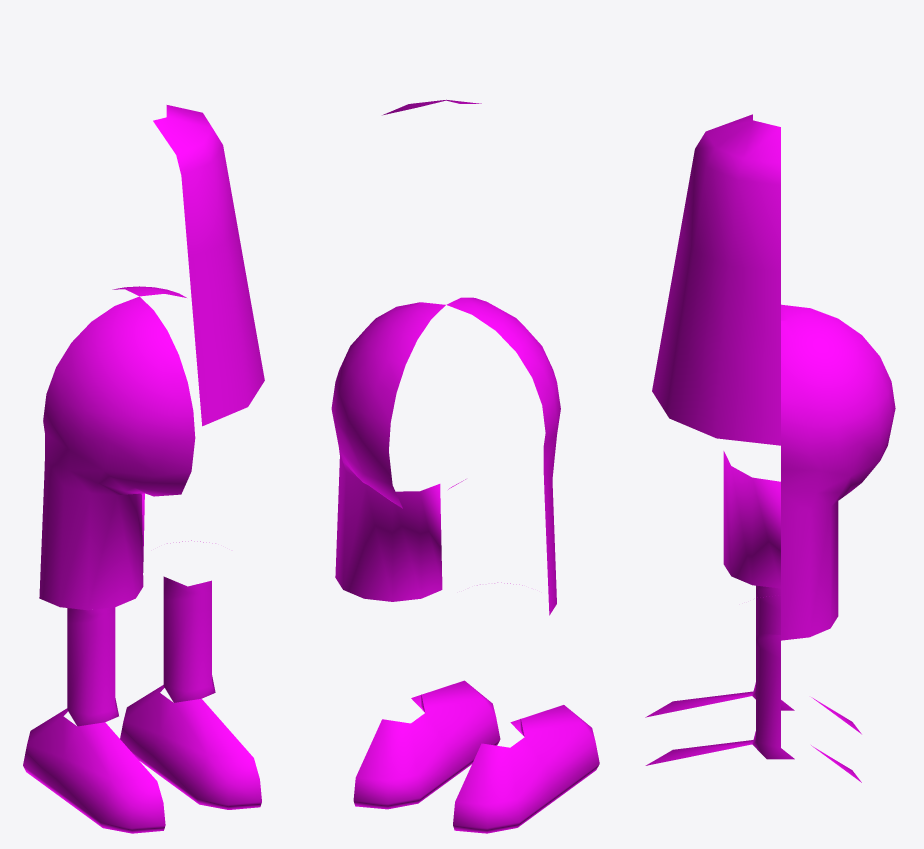
Rendered from ava_bodyC1__ava_bodyC1.glb.
3 views of the same model, side by side, from view 1: azimuth 30°, elevation 25°; view 2: azimuth 150°, elevation 25°; view 3: azimuth 270°, elevation 25° (orthographic). The views are drawn at different scales.
Visible parts, largest first — view 1: polygon0; view 2: polygon0; view 3: polygon0.
Boxes of the visible parts, x1=… form: polygon0: x1=23, y1=105, x2=264, y2=833; polygon0: x1=331, y1=99, x2=599, y2=833; polygon0: x1=645, y1=114, x2=895, y2=782.
Size of the model in its own units: 3.38 by 11 by 3.69.
Materials: 1 (1 with a texture image).
